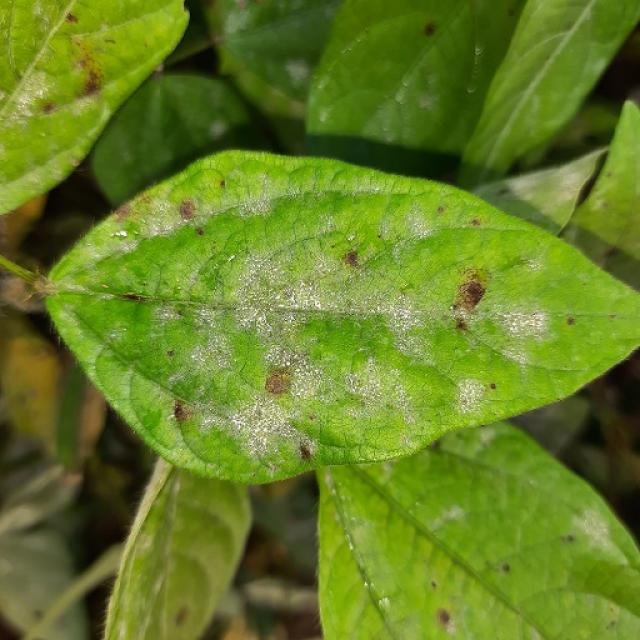Blackgram: (46, 151, 639, 481)
Powdery_Mildew: (200, 275, 441, 440), (215, 229, 404, 332), (251, 331, 335, 414), (168, 311, 252, 391), (367, 285, 448, 344), (223, 396, 295, 457), (271, 268, 356, 315), (217, 185, 301, 226), (236, 393, 294, 446), (348, 361, 409, 410), (232, 287, 286, 339), (133, 197, 194, 240), (8, 81, 52, 128), (499, 309, 550, 339), (453, 376, 490, 413)
